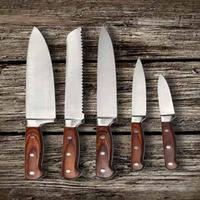knife: (18, 22, 61, 185), (87, 22, 123, 181), (56, 18, 89, 190), (149, 69, 192, 185), (124, 43, 156, 179)
